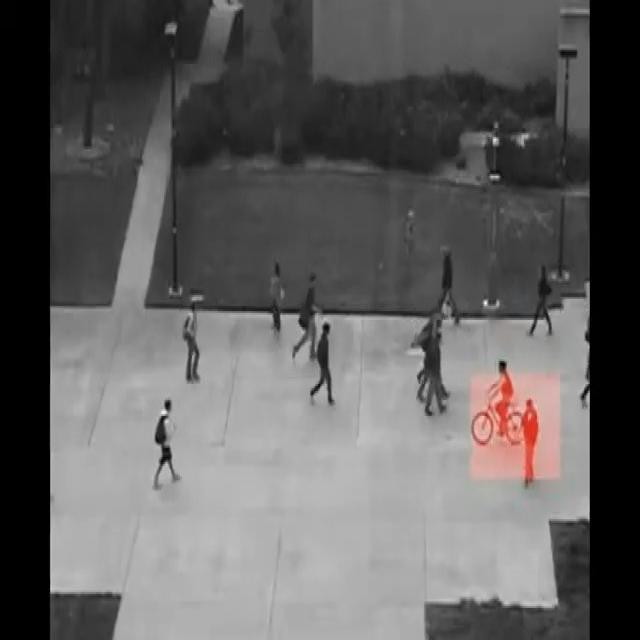anamoly: (465, 345, 549, 459)
